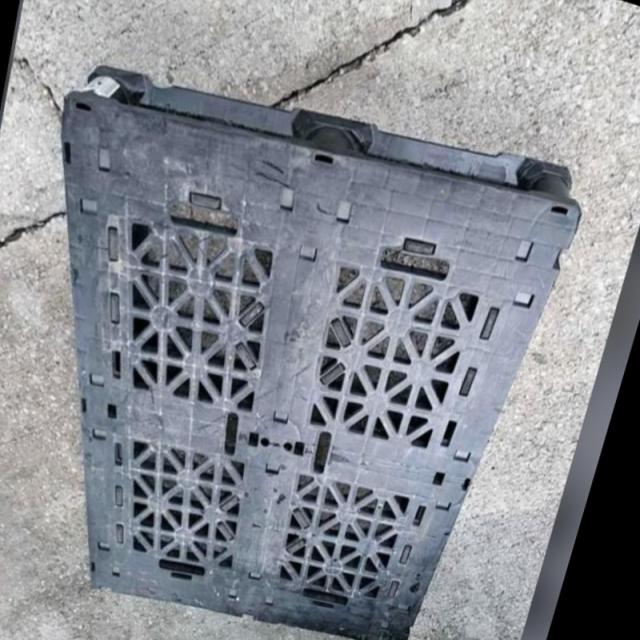igps: (58, 63, 587, 639)
